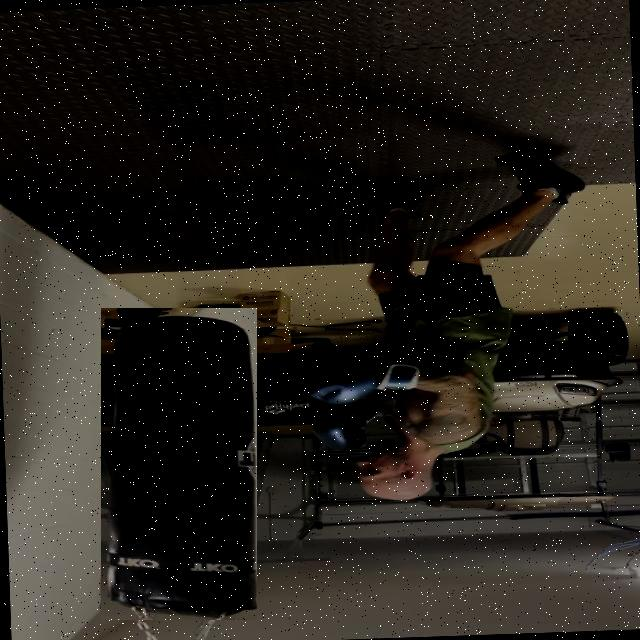punch: (295, 342, 507, 508)
